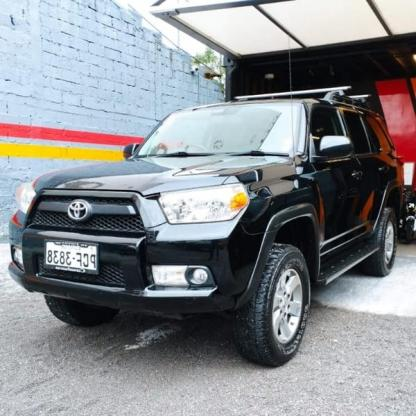Placa: (42, 244, 100, 271)
